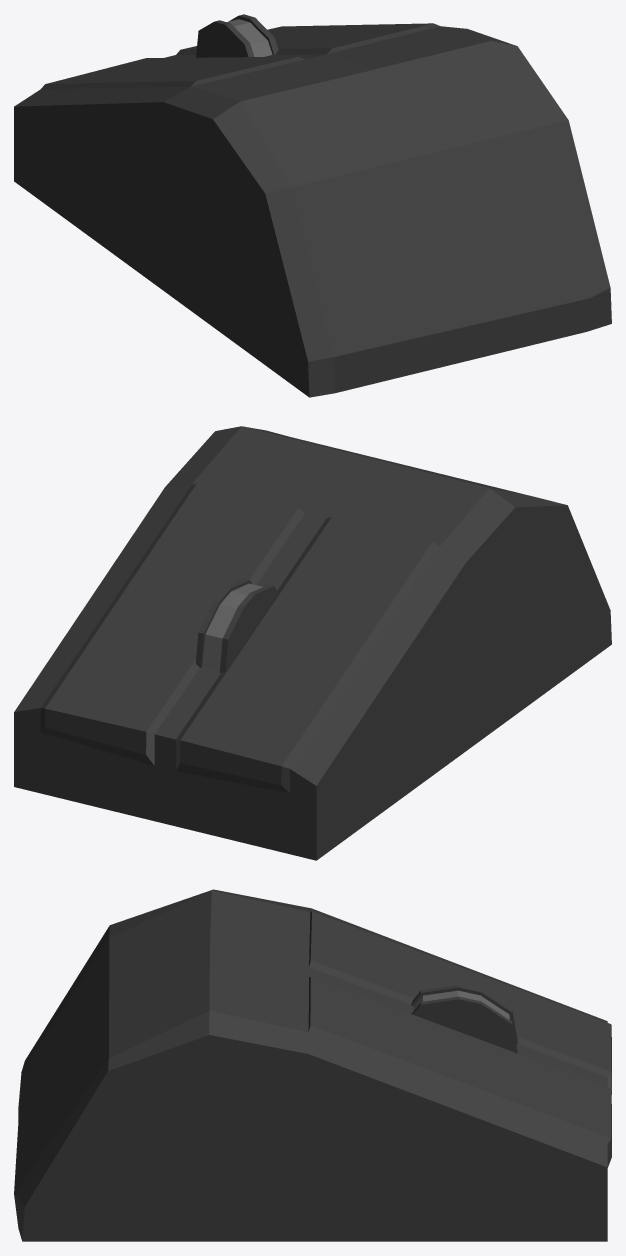
Rendered from MouseV1Black.fbx.
3 renders of one model, top to bottom at view 1: azimuth 30°, elevation 25°; view 2: azimuth 150°, elevation 25°; view 3: azimuth 270°, elevation 25°, orthographic.
Visible parts, largest first — view 1: MouseV1Black; view 2: MouseV1Black; view 3: MouseV1Black.
Boxes of the visible parts, bbox=[...] form: MouseV1Black: bbox=[14, 14, 611, 397]; MouseV1Black: bbox=[14, 426, 611, 860]; MouseV1Black: bbox=[14, 889, 611, 1241].
Size of the model in its own units: 3.64 by 2.53 by 6.29.
